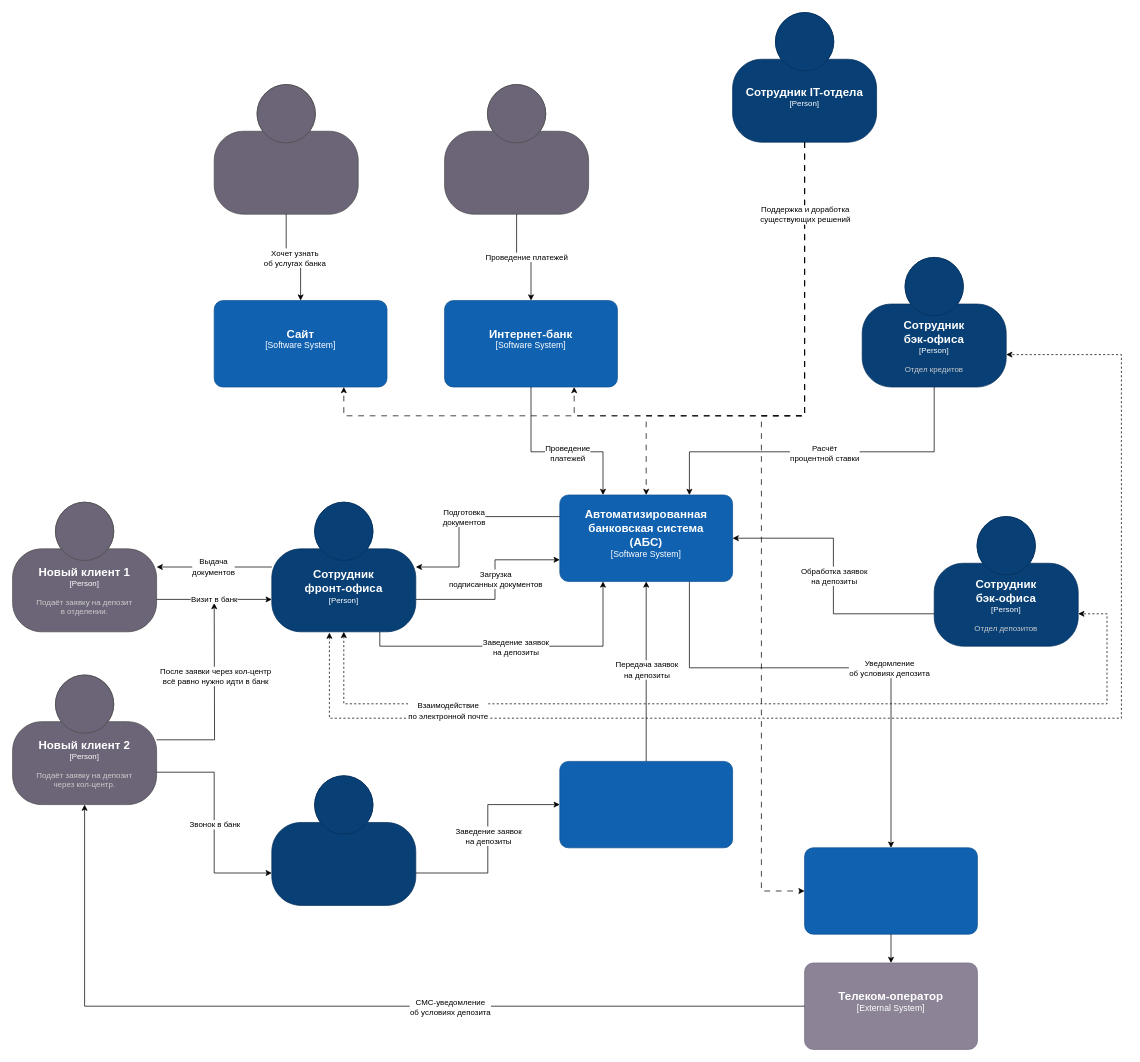
This 1140x1062 diagram has some shape labels left out. Each missing label, with the box of its shape:
Новый клиент 3 [Person] Интересуется услугами банка.: (213, 84, 358, 214)
Система кол-центра [Software System]: (559, 761, 733, 848)
СМС-шлюз телеком-оператора [Software System]: (804, 847, 977, 934)
Сотрудник кол-центра [Person]: (271, 775, 416, 905)
Старый клиент [Person] Уже пользуется услугами банка.: (444, 84, 589, 214)
